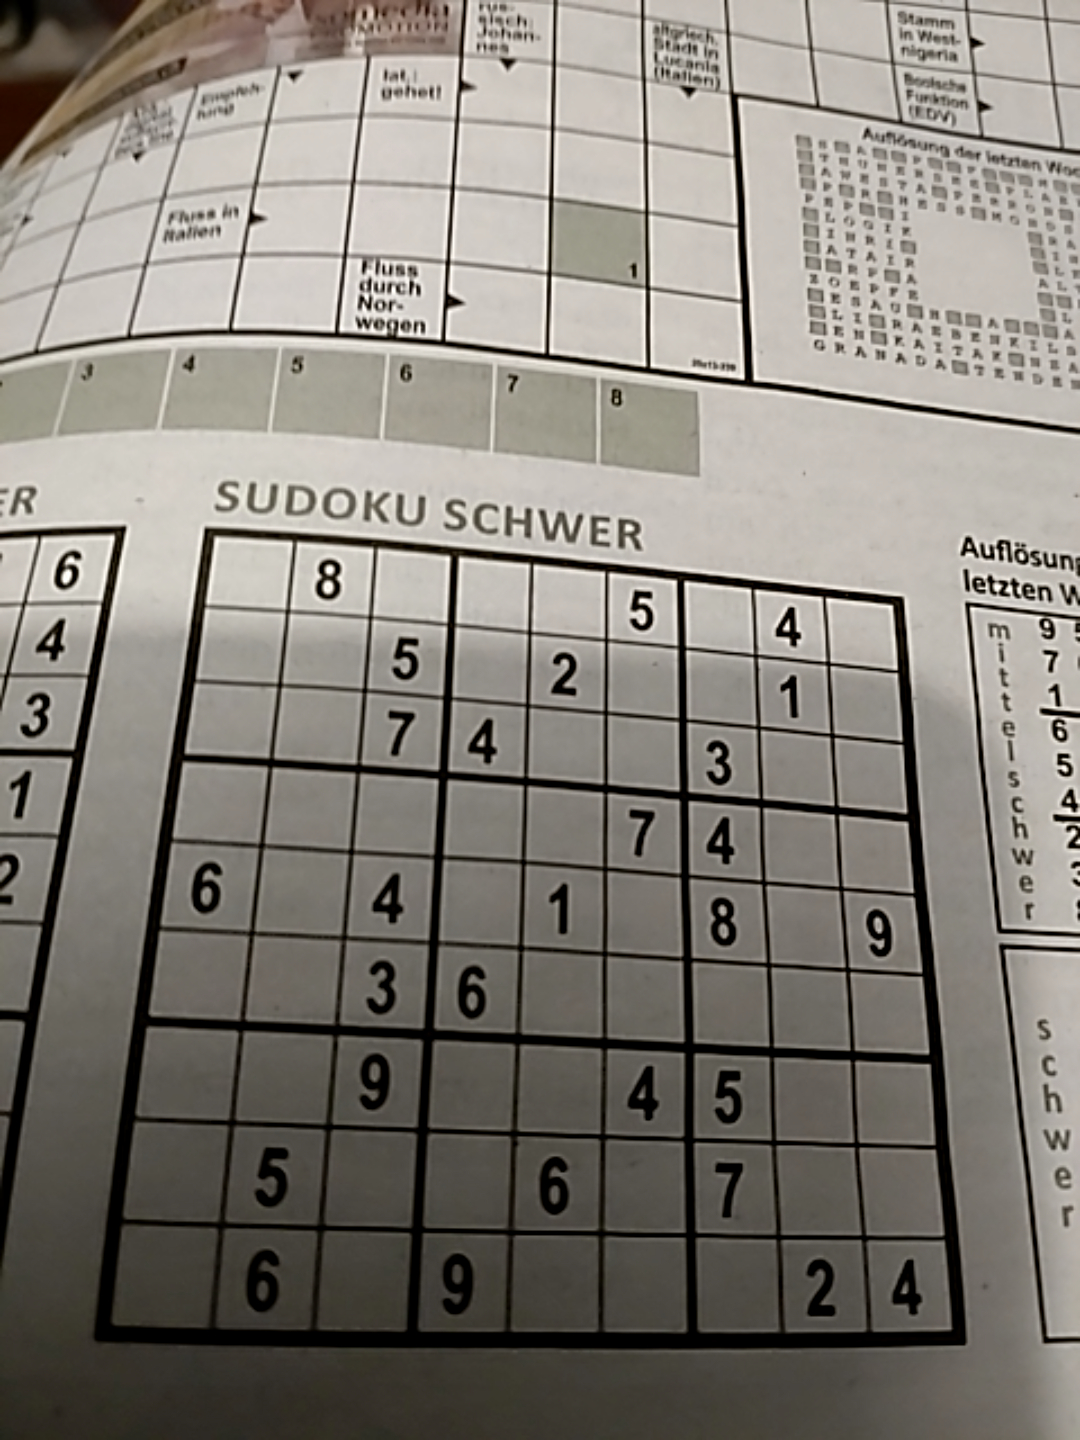sudoku: (95, 523, 966, 1356)
